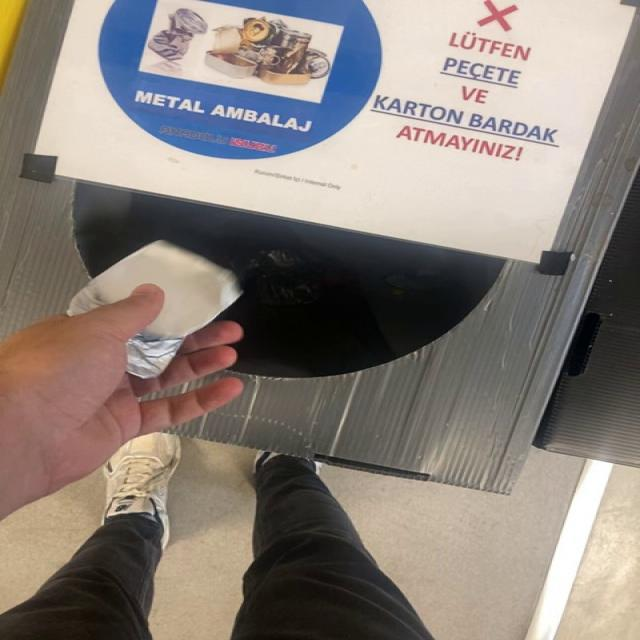bin: (1, 0, 640, 494)
metal: (67, 240, 241, 379)
